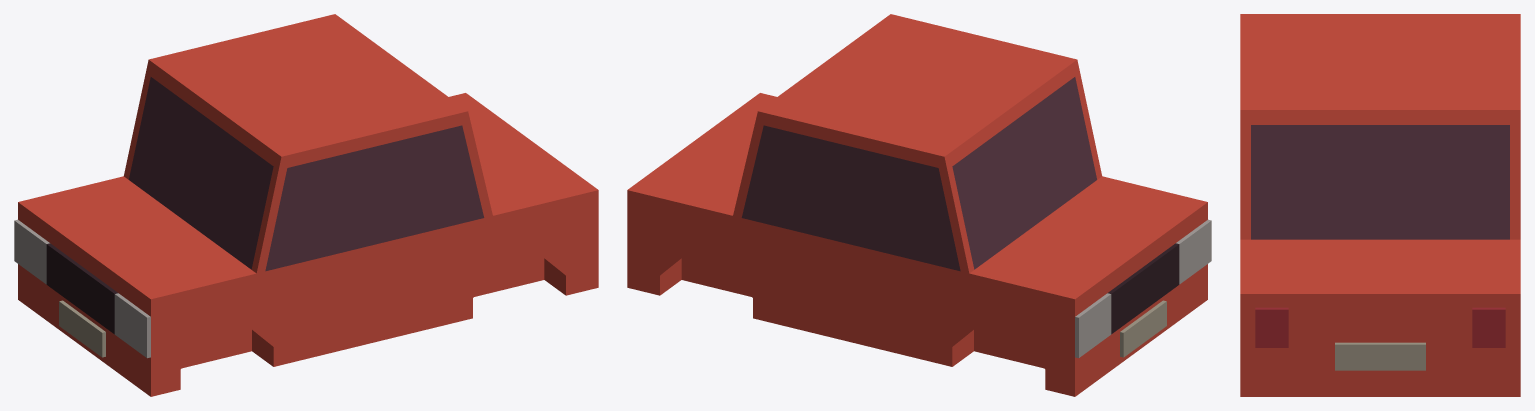
Rendered from Sedan_Red.fbx.
3 renders of one model, left to right at view 1: azimuth 30°, elevation 25°; view 2: azimuth 150°, elevation 25°; view 3: azimuth 270°, elevation 25°, orthographic. The views are drawn at different scales.
Visible parts, largest first — view 1: Sedan_Red, Sedan_Lights; view 2: Sedan_Red, Sedan_Lights; view 3: Sedan_Red, Sedan_Lights.
Part boxes in pixels (x1=…): Sedan_Red: x1=18, y1=14, x2=598, y2=396; Sedan_Lights: x1=14, y1=219, x2=150, y2=358; Sedan_Red: x1=627, y1=14, x2=1207, y2=396; Sedan_Lights: x1=1075, y1=219, x2=1211, y2=358; Sedan_Red: x1=1240, y1=14, x2=1520, y2=396; Sedan_Lights: x1=1255, y1=307, x2=1505, y2=347.
Size of the model in its own units: 3.66 by 1.6 by 1.85.
